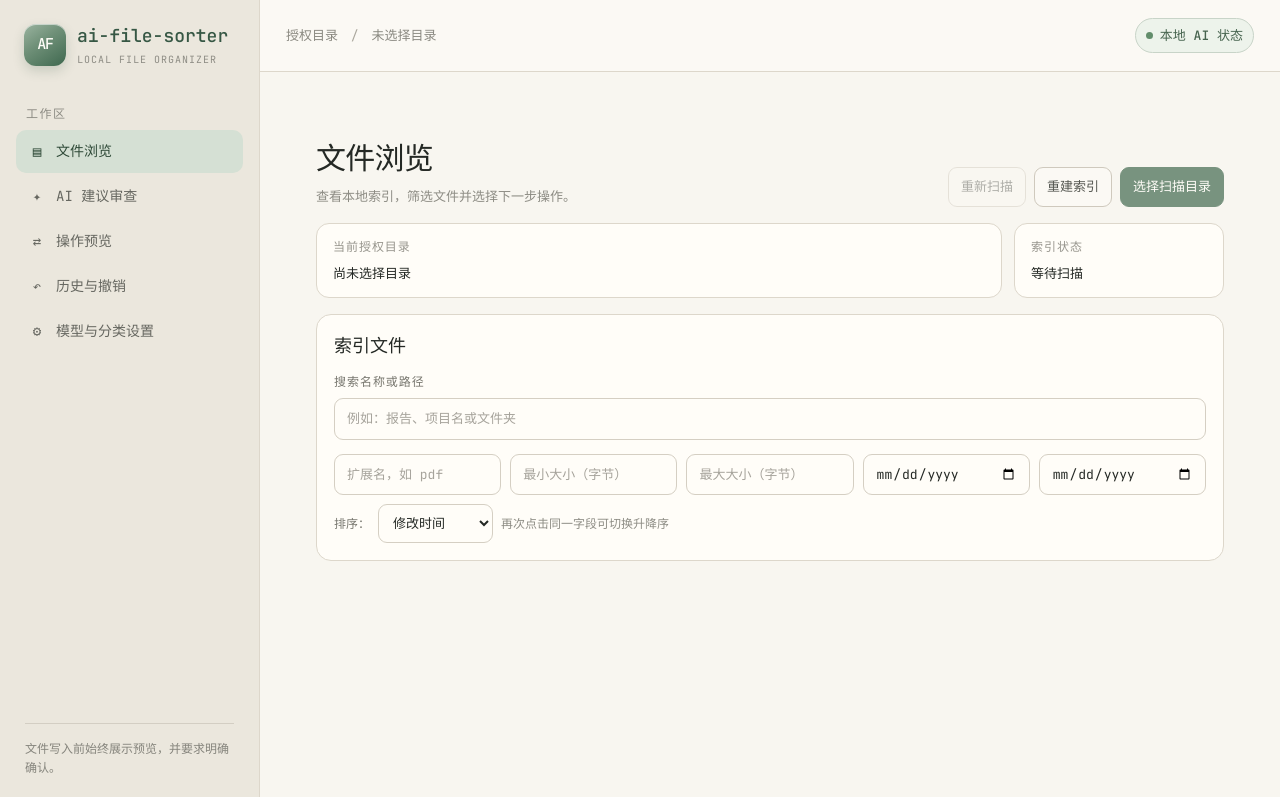
Test: App › shows the scan summary after a directory is selected
The width and height of the screenshot is (1280, 797).
Click the button "选择扫描目录": [1172, 187] box top-left (1120, 167), bottom-right (1224, 206)
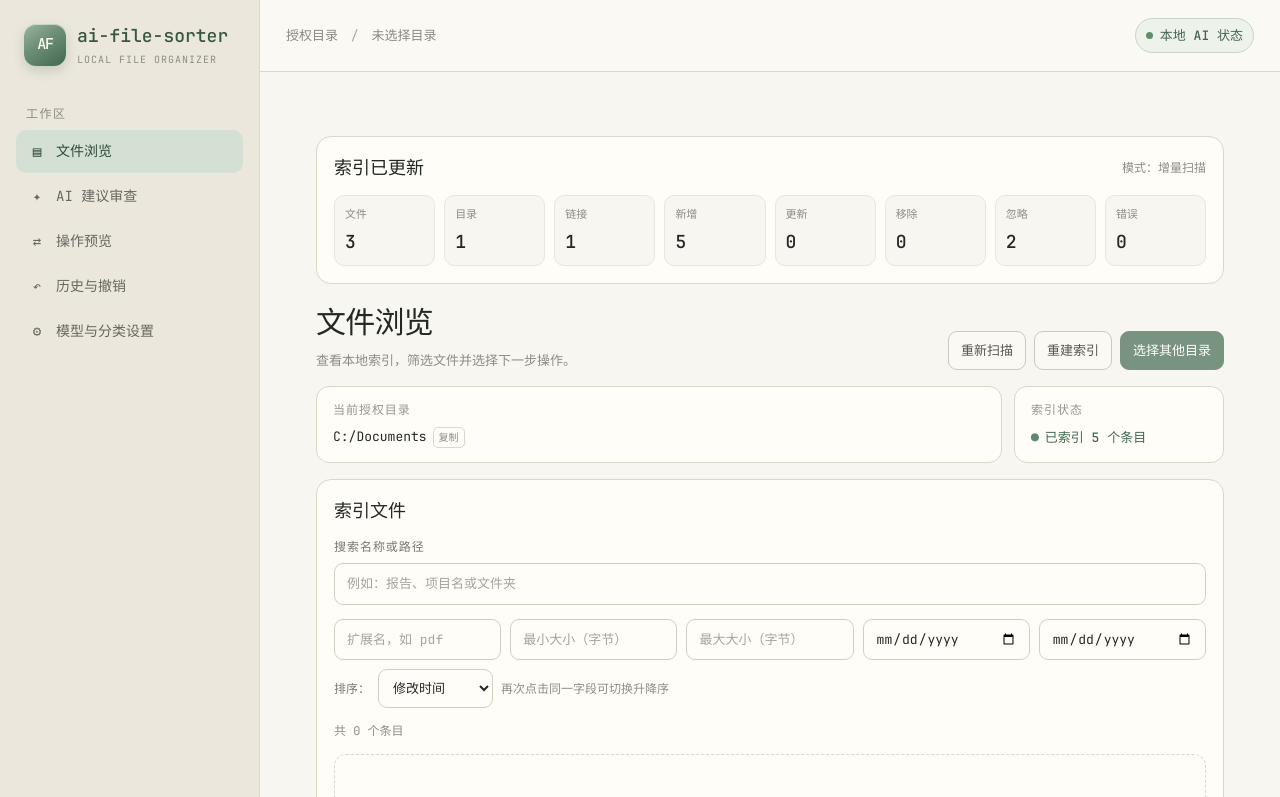
Result: the heading "索引已更新" is shown at top-left (334, 154), bottom-right (424, 181)
Result: the text "C:/Documents" is shown at top-left (333, 428), bottom-right (427, 447)
Result: the text "已索引 5 个条目" is shown at top-left (1045, 429), bottom-right (1146, 446)
